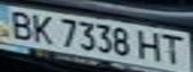3: (93, 21, 115, 56), (75, 19, 96, 52)
7: (54, 16, 78, 50)
8: (112, 25, 136, 58)
B: (3, 8, 36, 41)
H: (136, 28, 166, 62)
K: (27, 11, 57, 45)
T: (157, 32, 190, 65)
